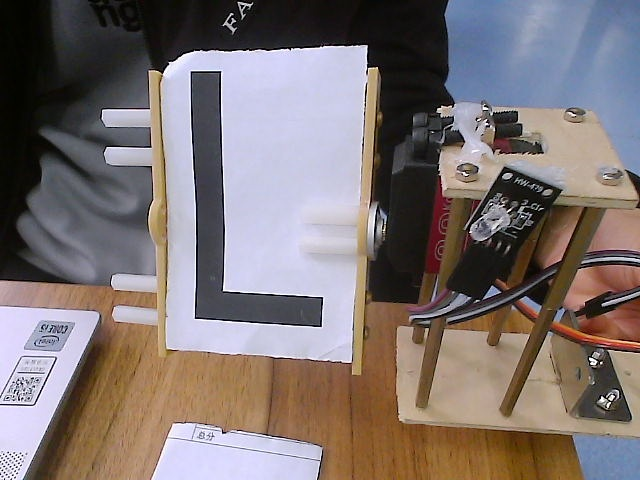L: (94, 26, 439, 384)
